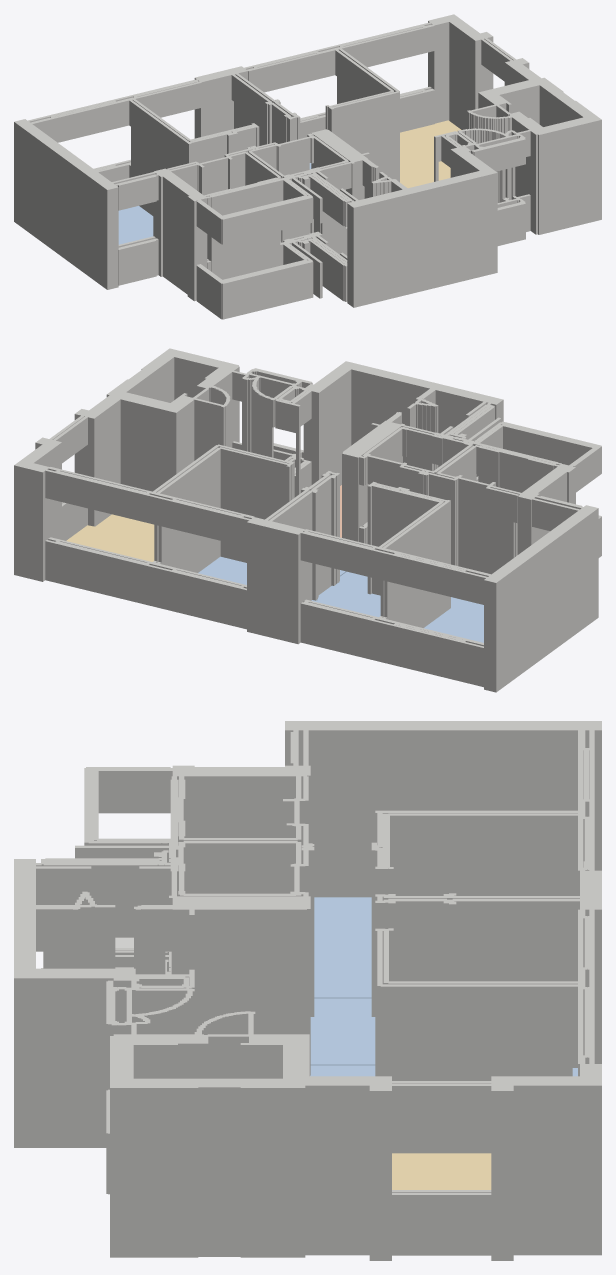
The picture shows the model from 3 angles, top to bottom: view 1: azimuth 30°, elevation 25°; view 2: azimuth 150°, elevation 25°; view 3: azimuth 270°, elevation 25°; orthographic projection. The views are drawn at different scales.
Parts seen in each view (by area): view 1: walls, room:living:4, room:bedroom:0; view 2: walls, room:living:4, room:bedroom:2, room:bedroom:0, room:bedroom:3; view 3: walls, room:bedroom:0, room:bedroom:2, room:living:4, room:bedroom:3.
Part boxes in pixels (x1,y1,x2,y2): walls: [14, 14, 601, 319]; room:living:4: [400, 120, 461, 188]; room:bedroom:0: [118, 206, 153, 244]; walls: [14, 348, 601, 692]; room:living:4: [66, 514, 154, 561]; room:bedroom:2: [311, 571, 380, 617]; room:bedroom:0: [424, 597, 483, 642]; room:bedroom:3: [198, 556, 346, 584]; walls: [14, 721, 601, 1260]; room:bedroom:0: [314, 897, 371, 998]; room:bedroom:2: [310, 998, 375, 1065]; room:living:4: [392, 1153, 491, 1189]; room:bedroom:3: [310, 1065, 577, 1076].
Bounding box in the file's own units: 13.09 × 2.8 × 8.79.
